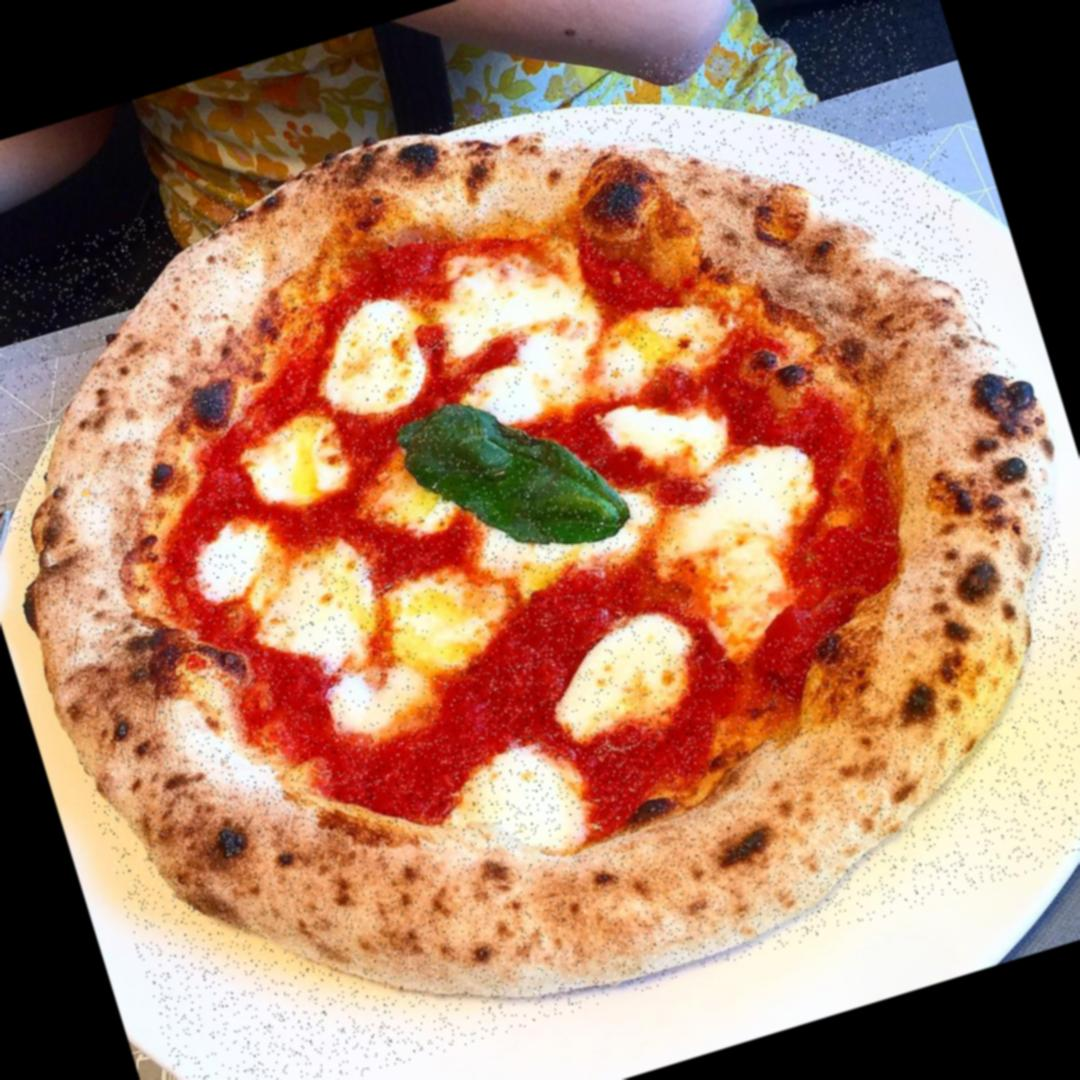Basil: (384, 353, 648, 608)
Cheese: (430, 228, 601, 365), (667, 492, 800, 660), (588, 278, 749, 406), (544, 611, 700, 740), (460, 320, 625, 440), (309, 291, 447, 429), (249, 528, 383, 670), (595, 374, 745, 498), (457, 736, 593, 870), (704, 427, 830, 558), (388, 562, 512, 676), (326, 652, 434, 746), (255, 421, 359, 517), (180, 513, 282, 610), (483, 524, 563, 600), (380, 461, 448, 543)
Pizza: (0, 0, 1080, 1080)
